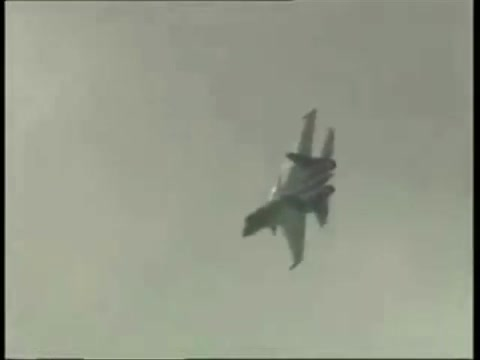aeroplane: (242, 105, 346, 275)
